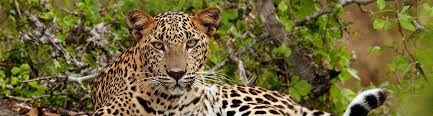leopard: (88, 5, 391, 116)
